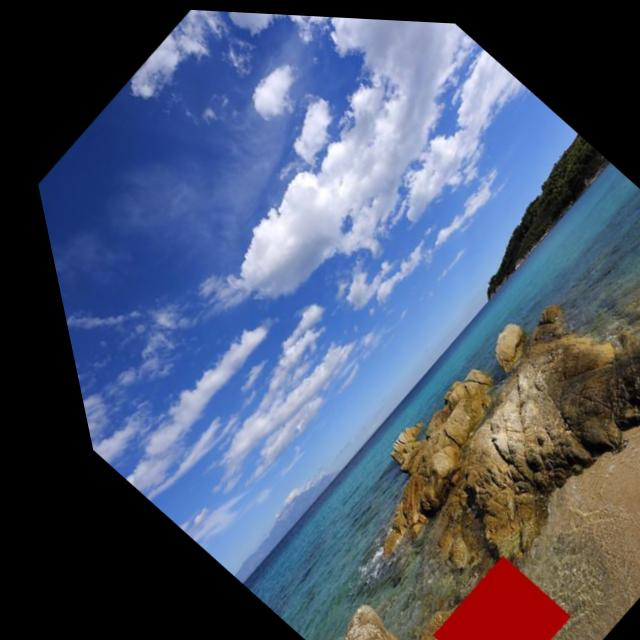RedSquare: (377, 535, 565, 640)
